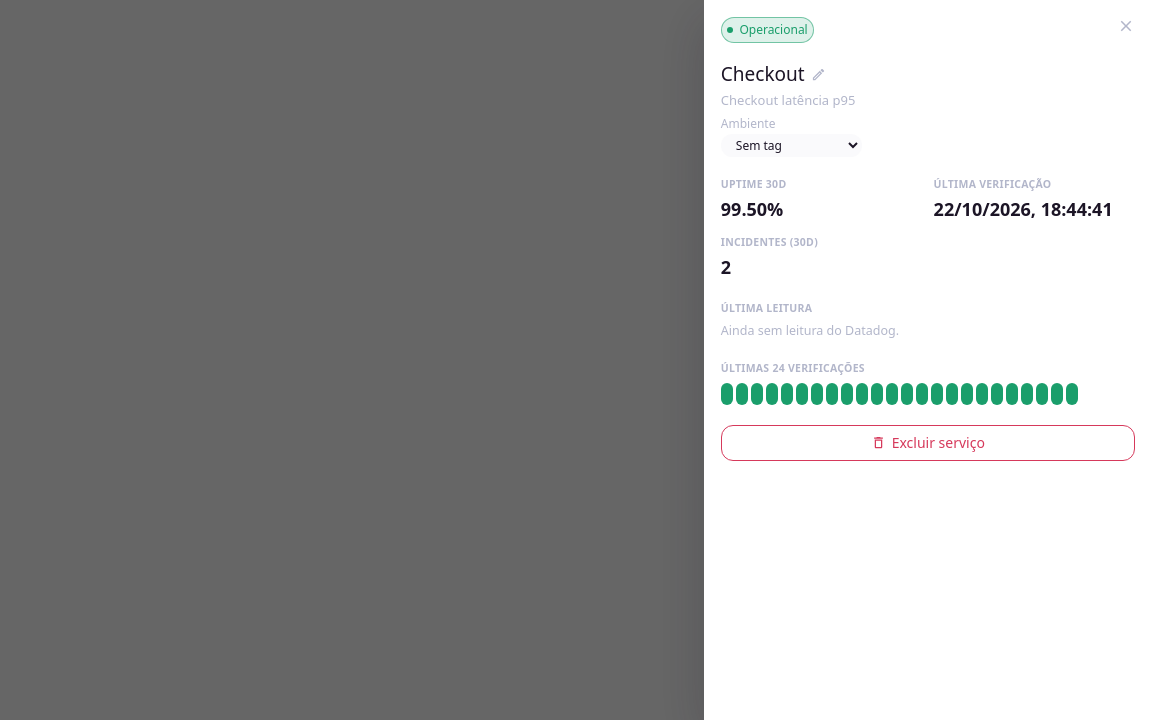
Scenario: ServiceDetailDrawer › an empty name shows an error and does not save (SVCEDIT-03)
This screenshot has width=1152, height=720.
Expected: the heading "Checkout" is shown, 721,60 -> 805,88
Click the button named "Renomear serviço": (818, 74) 811,67 -> 826,82
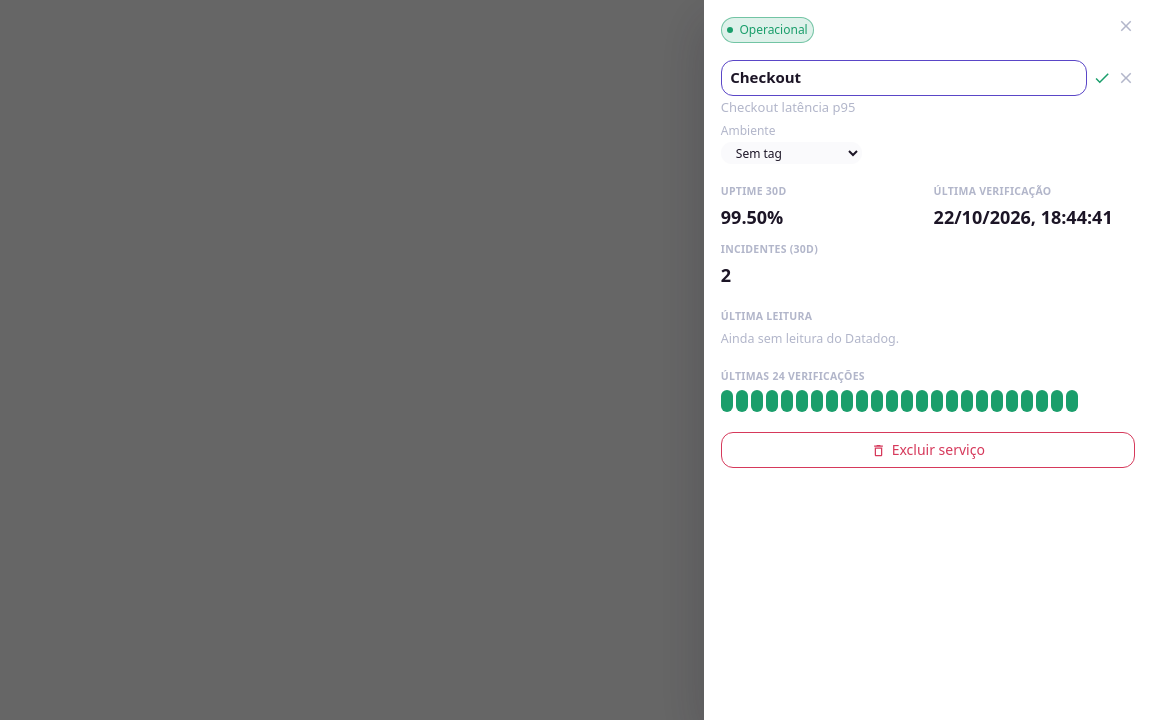
Clear the field with placeholder "Nome do serviço": (904, 78) 721,60 -> 1087,96
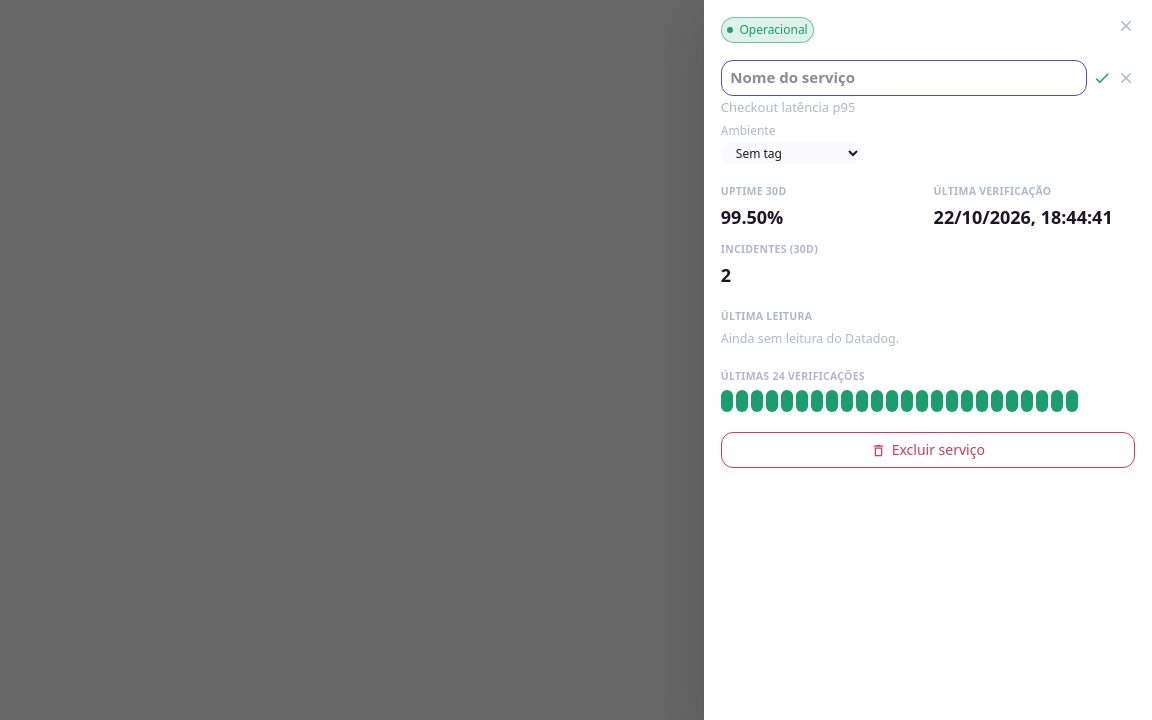
Click the button named "Salvar": (1102, 78) 1093,69 -> 1111,87
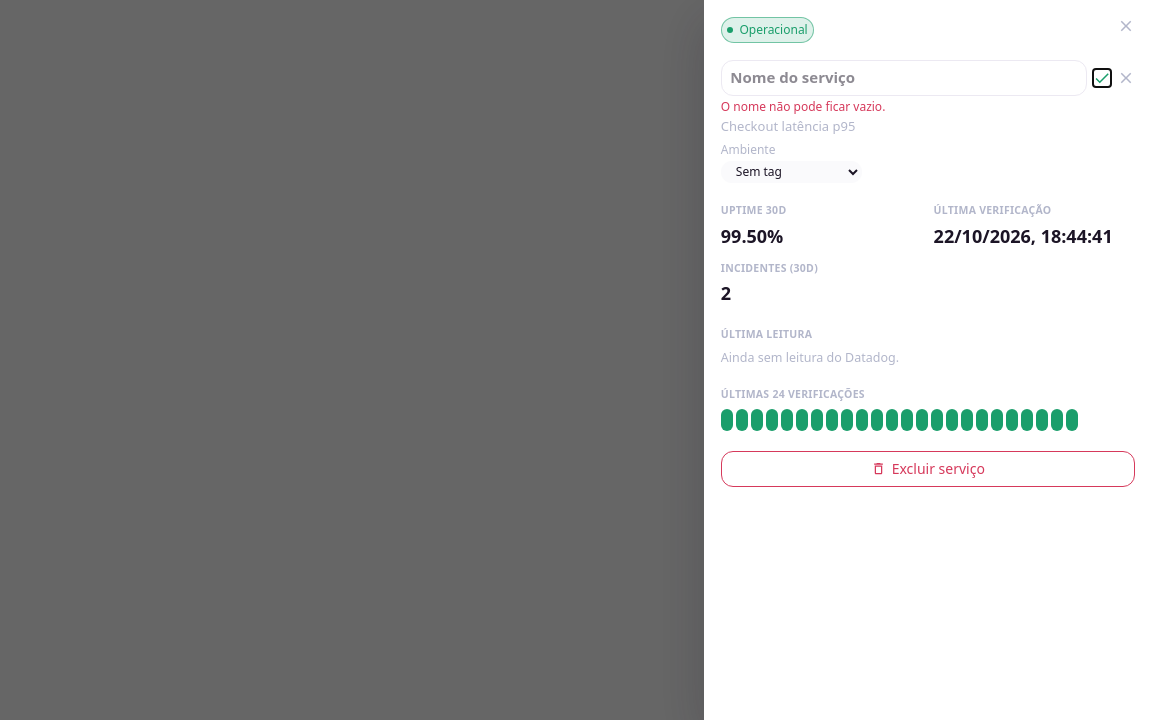
Now the text "O nome não pode ficar vazio." is shown, box 721,98 -> 885,115
